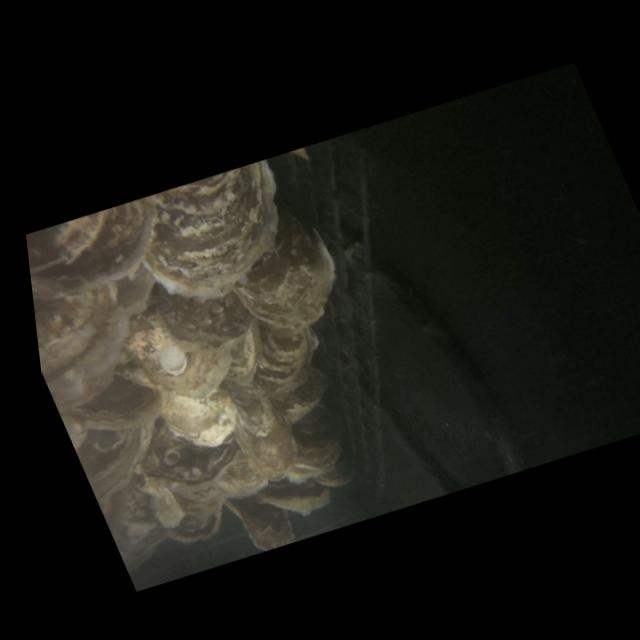Oyster-Indeterminate: (116, 156, 319, 315), (26, 232, 197, 413), (90, 286, 255, 422), (206, 202, 358, 344), (21, 193, 183, 314), (120, 397, 253, 507), (210, 366, 311, 488), (142, 259, 262, 360), (223, 307, 334, 401), (66, 409, 178, 500), (150, 372, 251, 459), (262, 401, 357, 487), (257, 357, 340, 429), (222, 484, 301, 558), (206, 320, 280, 392), (204, 443, 273, 504), (309, 458, 356, 493)
Oyster-Open: (57, 363, 172, 447), (249, 466, 340, 529)
